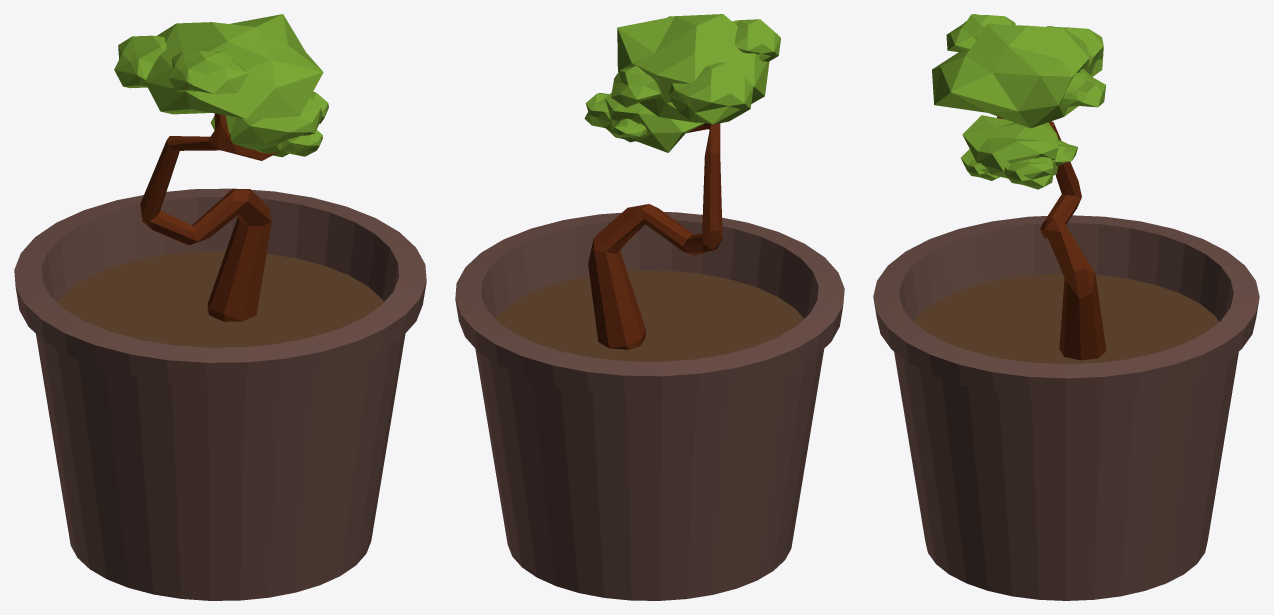
File: planter.fbx
The picture shows the model from 3 angles, left to right: view 1: azimuth 30°, elevation 25°; view 2: azimuth 150°, elevation 25°; view 3: azimuth 270°, elevation 25°; orthographic projection. The views are drawn at different scales.
Parts seen in each view (by area): view 1: Cylinder, Icosphere.002, Cube, Icosphere.001; view 2: Cylinder, Icosphere.002, Cube, Icosphere.001; view 3: Cylinder, Icosphere.002, Cube, Icosphere.001.
Boxes of the visible parts, x1,y1,x2,y2 form: Cylinder: (14,188,426,600); Icosphere.002: (114,14,323,119); Cube: (140,113,279,321); Icosphere.001: (210,91,328,157); Cylinder: (455,212,844,600); Icosphere.002: (611,14,780,124); Cube: (588,123,722,349); Icosphere.001: (584,93,704,152); Cylinder: (873,215,1259,600); Icosphere.002: (932,14,1105,128); Cube: (997,116,1106,360); Icosphere.001: (960,115,1077,189).
Size of the model in its own units: 294 by 422 by 294.
